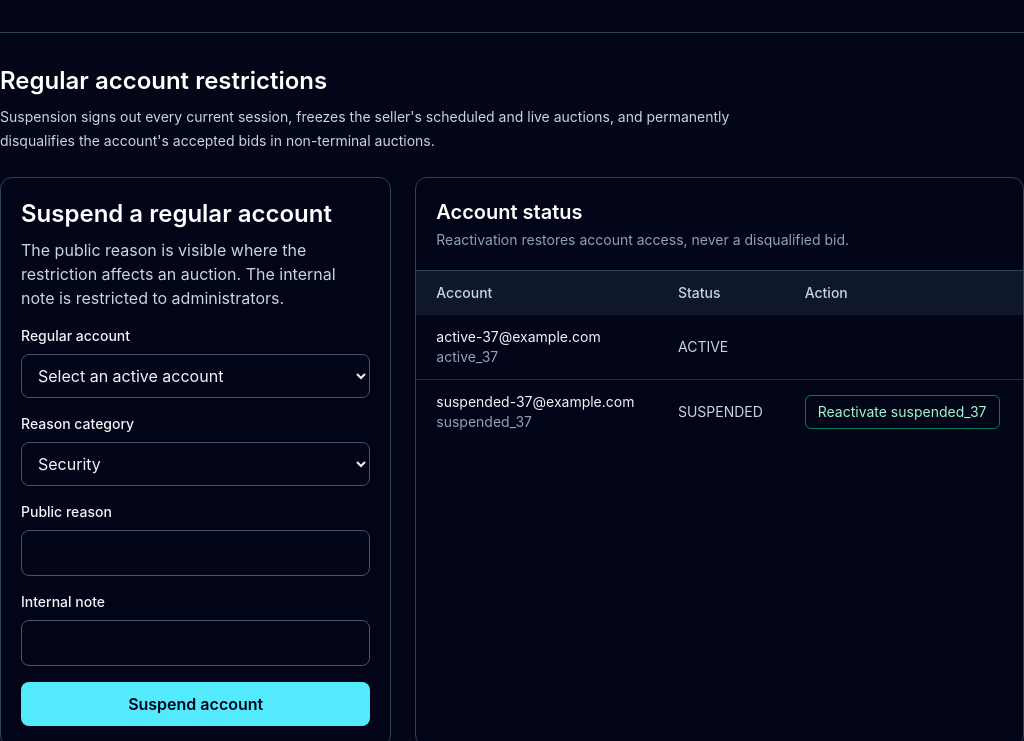
Test case: RegularAccountAdministrationWorkspace › allows an administrator to reactivate an account without restoring its bids
Click the button "Reactivate suspended_37" at (902, 412), box [805,395,1000,429]
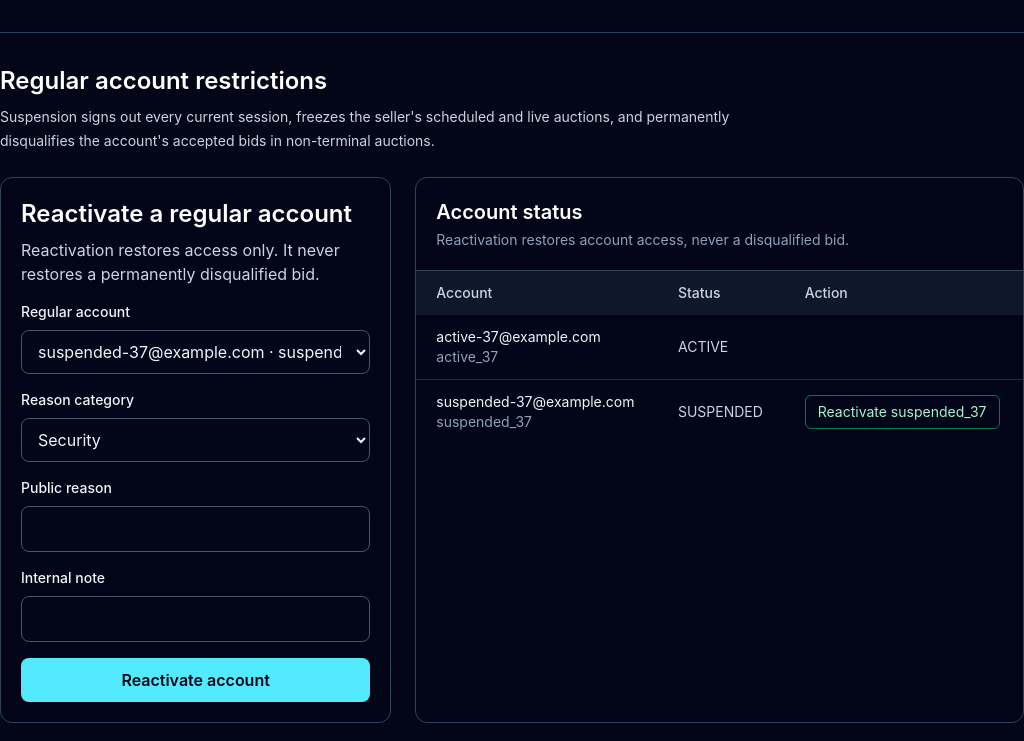
Type "The security review is complete." into the field labelled "Public reason" at (196, 529), box [21,506,370,552]
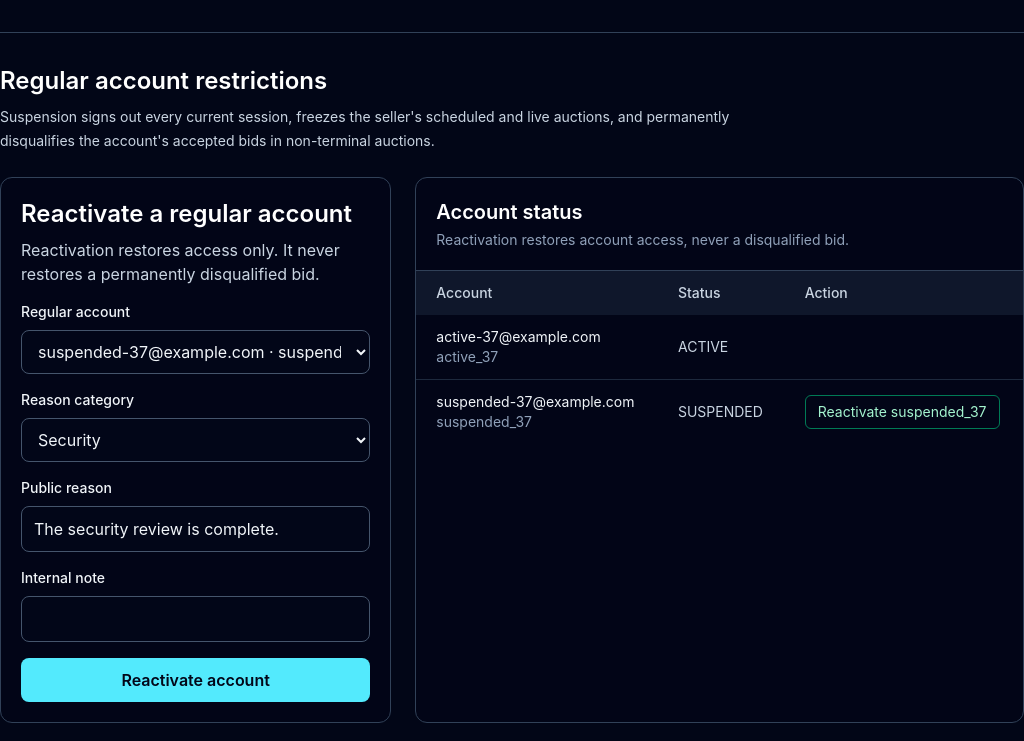
Click the button "Reactivate account" at (196, 680), box [21,658,370,702]
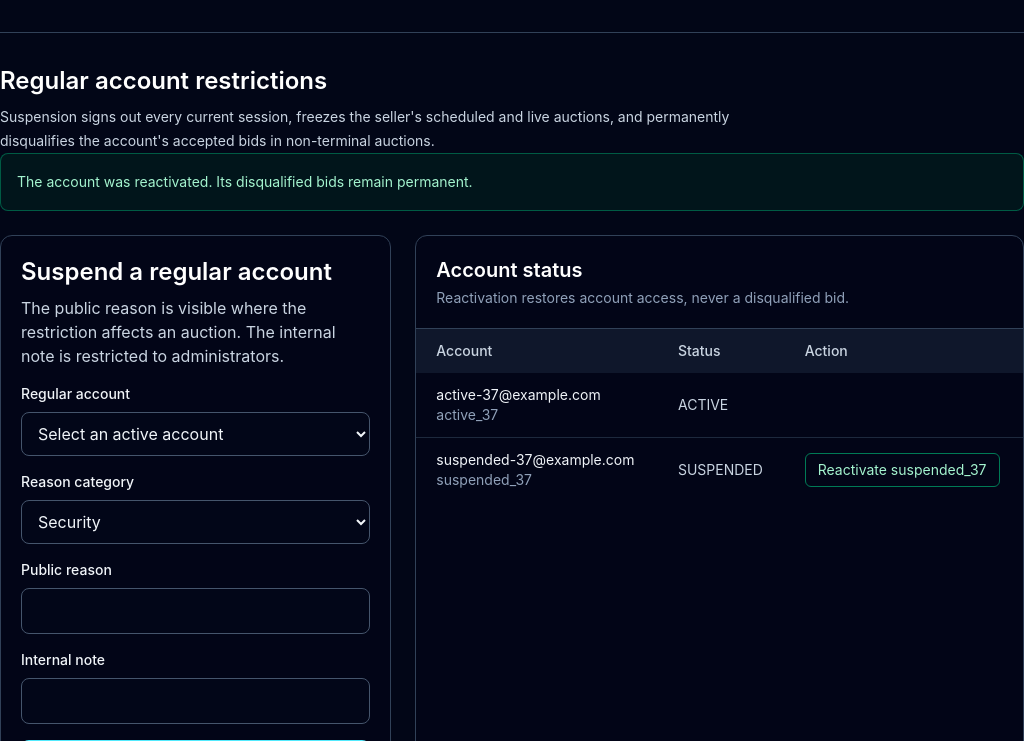
Expected: the text "The account was reactivated. Its disqualified bids remain permanent." is shown, [0,153,1023,211]
